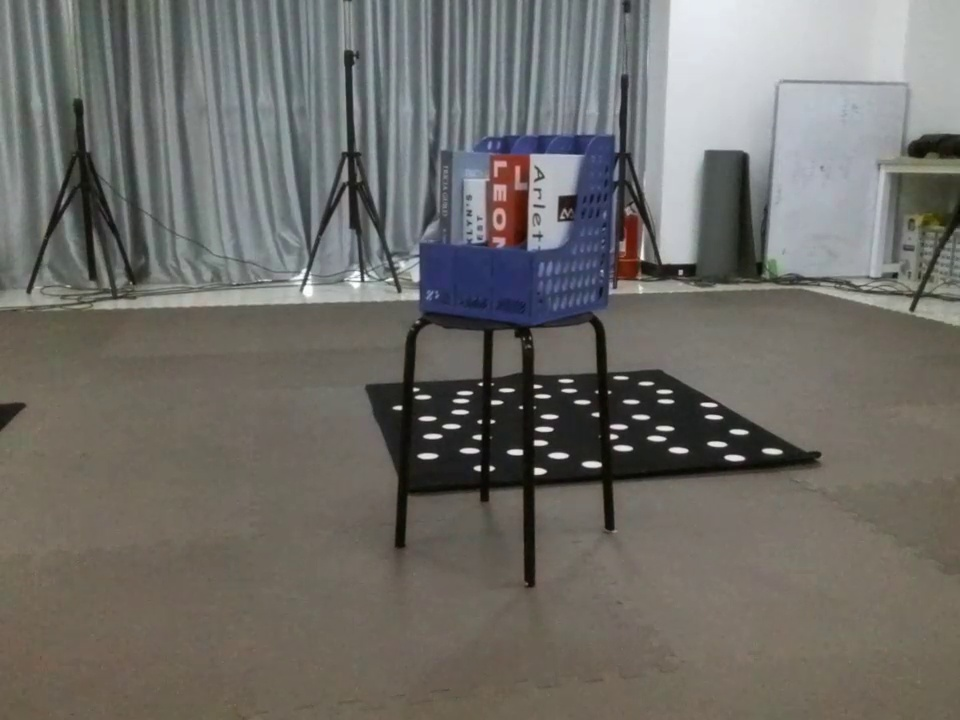files: (415, 117, 623, 332)
